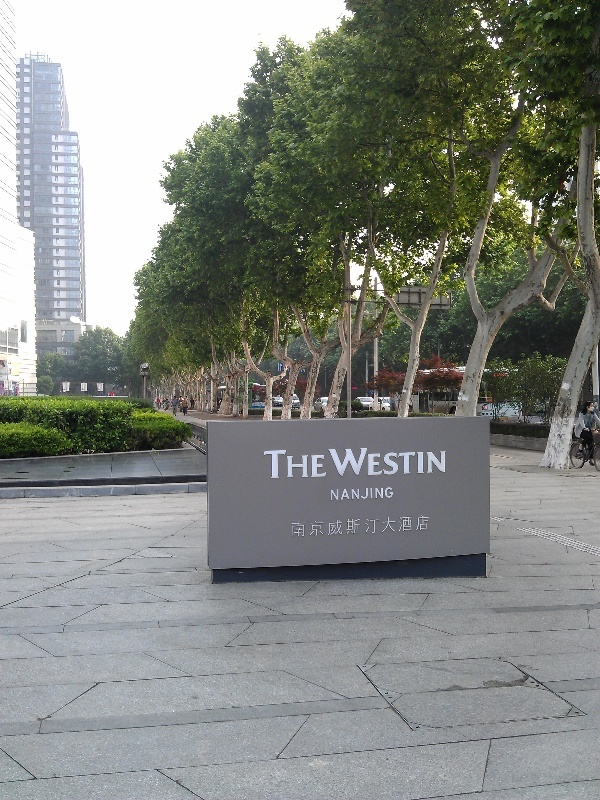text: (433, 442, 449, 478), (337, 442, 352, 478), (353, 442, 368, 478), (369, 442, 384, 478), (385, 442, 400, 478), (401, 442, 416, 478), (417, 442, 432, 478), (273, 447, 288, 479), (289, 447, 304, 479), (305, 447, 320, 479), (289, 514, 304, 540), (305, 514, 320, 540), (321, 514, 336, 540), (337, 514, 352, 540), (353, 514, 368, 540), (369, 514, 384, 540), (385, 514, 400, 540), (401, 514, 416, 540), (417, 514, 431, 540), (327, 442, 336, 478), (262, 447, 272, 479), (337, 485, 352, 502), (353, 485, 368, 502), (369, 485, 384, 502), (321, 447, 328, 479), (385, 485, 395, 502), (328, 485, 336, 502), (483, 406, 496, 411)
